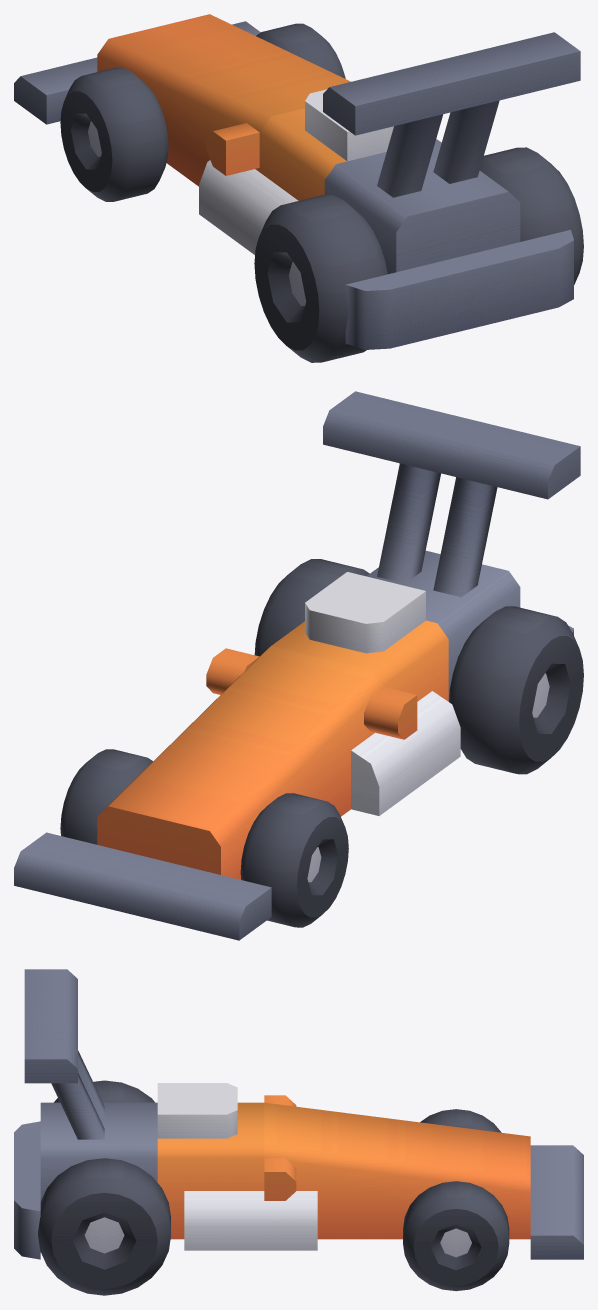
File: vehicle-drag-racer.glb
3 views of the same model, one above another, from view 1: azimuth 30°, elevation 25°; view 2: azimuth 150°, elevation 25°; view 3: azimuth 270°, elevation 25° (orthographic). The views are drawn at different scales.
Parts seen in each view (by area): view 1: vehicle-drag-racer, wheel-bl, wheel-fl, wheel-br, wheel-fr; view 2: vehicle-drag-racer, wheel-bl, wheel-fl, wheel-fr, wheel-br; view 3: vehicle-drag-racer, wheel-br, wheel-fr, wheel-fl, wheel-bl.
Part boxes in pixels (x1,y1,x2,y2): vehicle-drag-racer: (14,14,580,349); wheel-bl: (254,195,387,362); wheel-fl: (60,67,168,201); wheel-br: (479,147,583,284); wheel-fr: (256,23,345,78); vehicle-drag-racer: (14,391,580,940); wheel-bl: (449,606,583,774); wheel-fl: (240,793,348,927); wheel-fr: (60,749,152,844); wheel-br: (254,559,369,656); vehicle-drag-racer: (14,969,583,1259); wheel-br: (38,1158,170,1295); wheel-fr: (403,1181,509,1291); wheel-fl: (420,1109,501,1132); wheel-bl: (54,1080,154,1102).
Size of the model in its own units: 0.5875 by 0.6062 by 1.34.
1 material, 1 textured.
